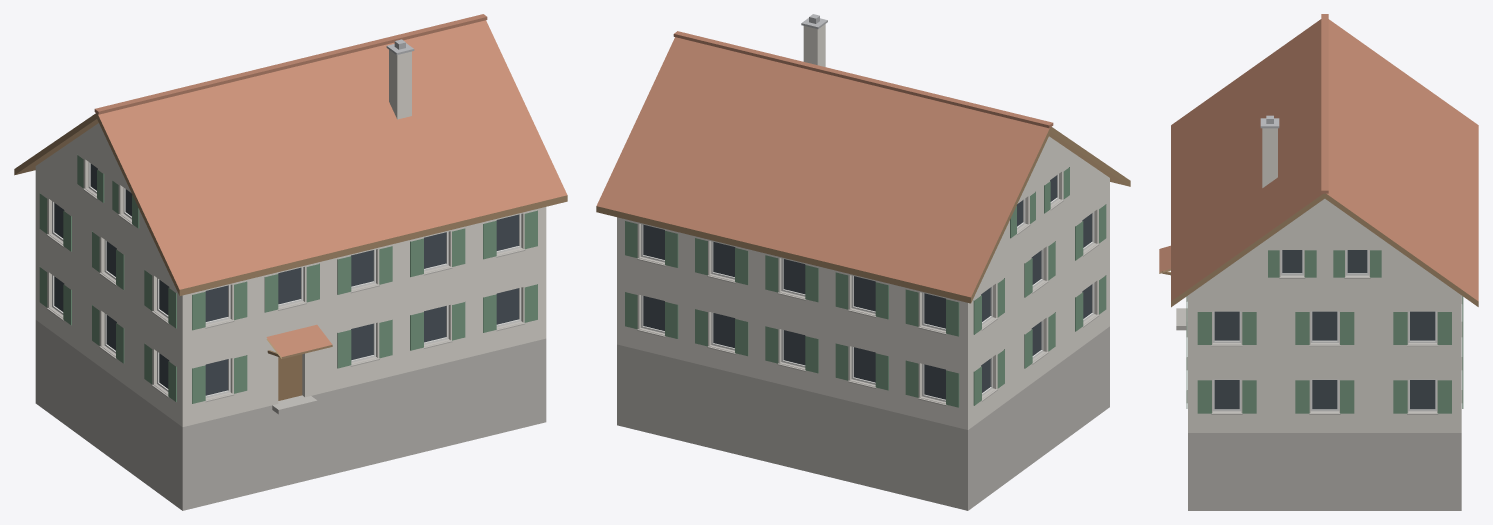
The model's file is house_gable_2_l.glb.
3 renders of one model, left to right at view 1: azimuth 30°, elevation 25°; view 2: azimuth 150°, elevation 25°; view 3: azimuth 270°, elevation 25°, orthographic. The views are drawn at different scales.
Visible parts, largest first — view 1: house_gable_2_l; view 2: house_gable_2_l; view 3: house_gable_2_l.
Part boxes in pixels (x1,y1,x2,y2): house_gable_2_l: (14, 14, 567, 510); house_gable_2_l: (596, 14, 1130, 510); house_gable_2_l: (1159, 14, 1478, 510).
Bounding box in the file's own units: 16.04 × 14.7 × 12.25.
